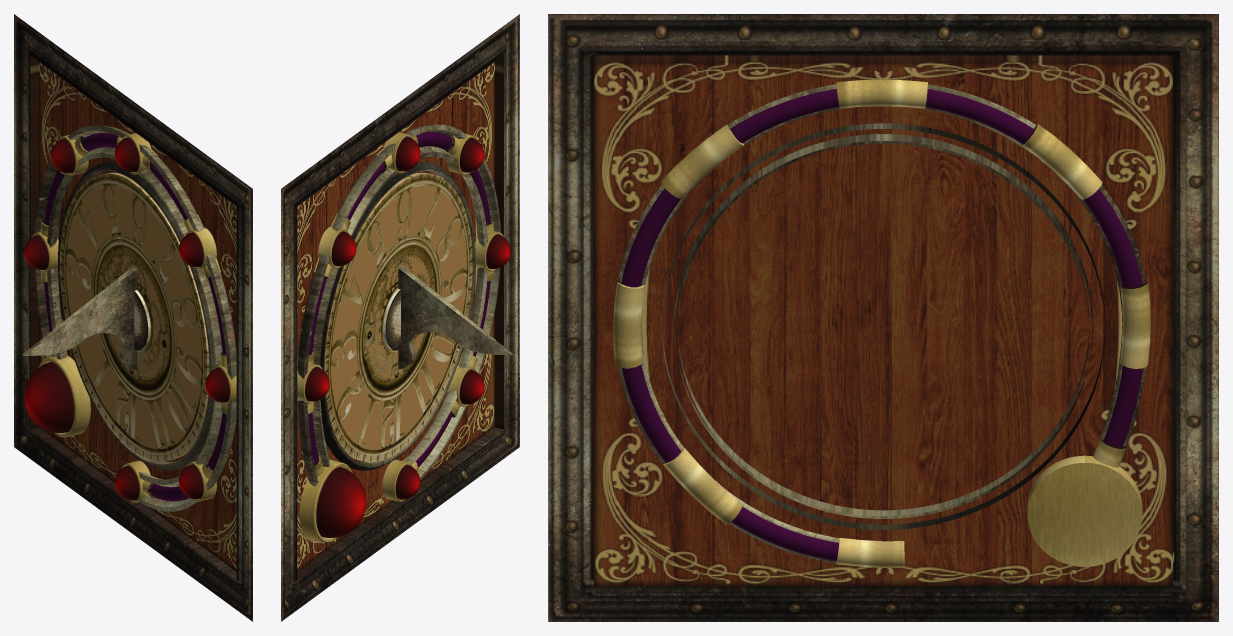
File: Level_02_Wall_Sun_Clock.FBX
The picture shows the model from 3 angles, left to right: view 1: azimuth 30°, elevation 25°; view 2: azimuth 150°, elevation 25°; view 3: azimuth 270°, elevation 25°; orthographic projection. The views are drawn at different scales.
Parts seen in each view (by area): view 1: Wall_Clock, Numbers, Arrow, Clock_Lamp_006, Object002, Clock_Energy, Metal_Parts_Clock, Clock_Lamp_002, Clock_Lamp_007, Clock_Lamp_05, Clock_Lamp_004, Clock_Lamp_09 (+2 smaller); view 2: Wall_Clock, Numbers, Arrow, Clock_Lamp_006, Object002, Clock_Energy, Clock_Lamp_05, Clock_Lamp_008, Metal_Parts_Clock, Clock_Lamp_003, Clock_Lamp_004, Clock_Lamp_09 (+2 smaller); view 3: Wall_Clock, Metal_Parts_Clock, Clock_Energy, Object002, Clock_Lamp_006, Numbers.
Boxes of the visible parts, box(x1,y1,x2,y2) form: Wall_Clock: box(14, 14, 252, 621); Numbers: box(60, 172, 209, 461); Arrow: box(22, 266, 150, 370); Clock_Lamp_006: box(24, 355, 90, 437); Object002: box(58, 161, 214, 470); Clock_Energy: box(44, 133, 226, 501); Metal_Parts_Clock: box(40, 136, 236, 499); Clock_Lamp_002: box(179, 227, 216, 269); Clock_Lamp_007: box(24, 232, 58, 272); Clock_Lamp_05: box(115, 460, 150, 502); Clock_Lamp_004: box(179, 461, 216, 501); Clock_Lamp_09: box(115, 133, 151, 174); Wall_Clock: box(281, 14, 519, 621); Numbers: box(324, 172, 472, 462); Arrow: box(383, 265, 512, 369); Clock_Lamp_006: box(299, 459, 366, 542); Object002: box(320, 162, 475, 470); Clock_Energy: box(308, 132, 490, 467); Clock_Lamp_05: box(382, 459, 420, 501); Clock_Lamp_008: box(318, 226, 356, 268); Metal_Parts_Clock: box(297, 135, 494, 471); Clock_Lamp_003: box(475, 231, 510, 271); Clock_Lamp_004: box(446, 365, 484, 406); Clock_Lamp_09: box(384, 132, 420, 173); Wall_Clock: box(548, 14, 1218, 621); Metal_Parts_Clock: box(613, 79, 1150, 567); Clock_Energy: box(621, 89, 1142, 561); Object002: box(662, 123, 1104, 529); Clock_Lamp_006: box(1027, 455, 1142, 566); Numbers: box(678, 141, 1089, 516).
Size of the model in its own units: 31.45 by 100 by 100.
